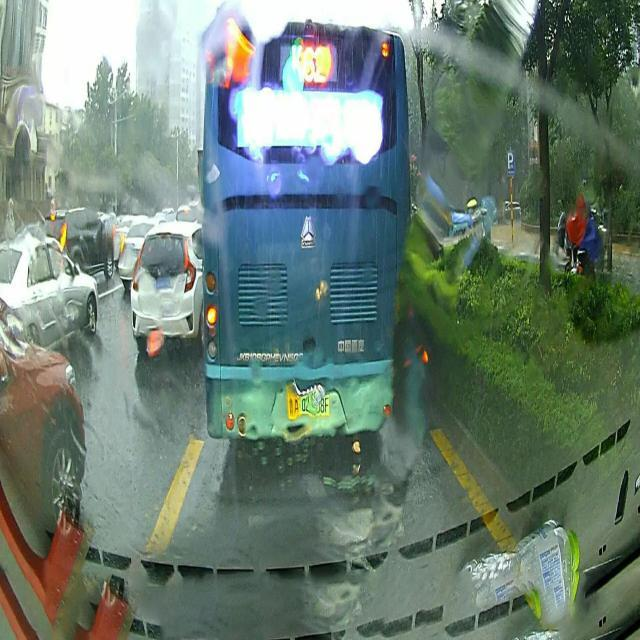car: (0, 316, 83, 542), (0, 230, 104, 353), (130, 220, 204, 357), (44, 209, 114, 276)
